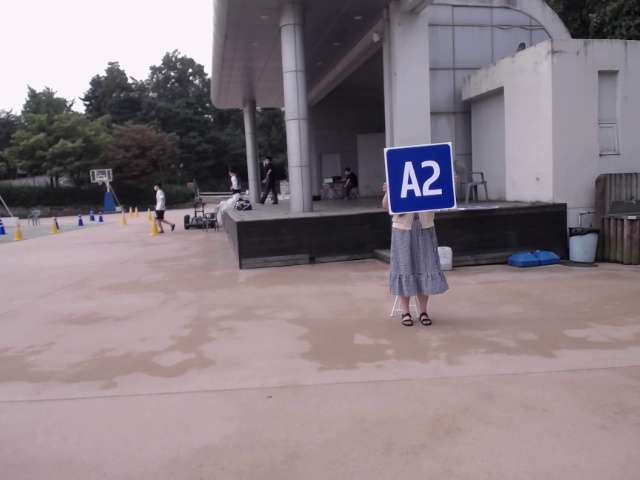delivery_a2: (385, 143, 456, 214)
